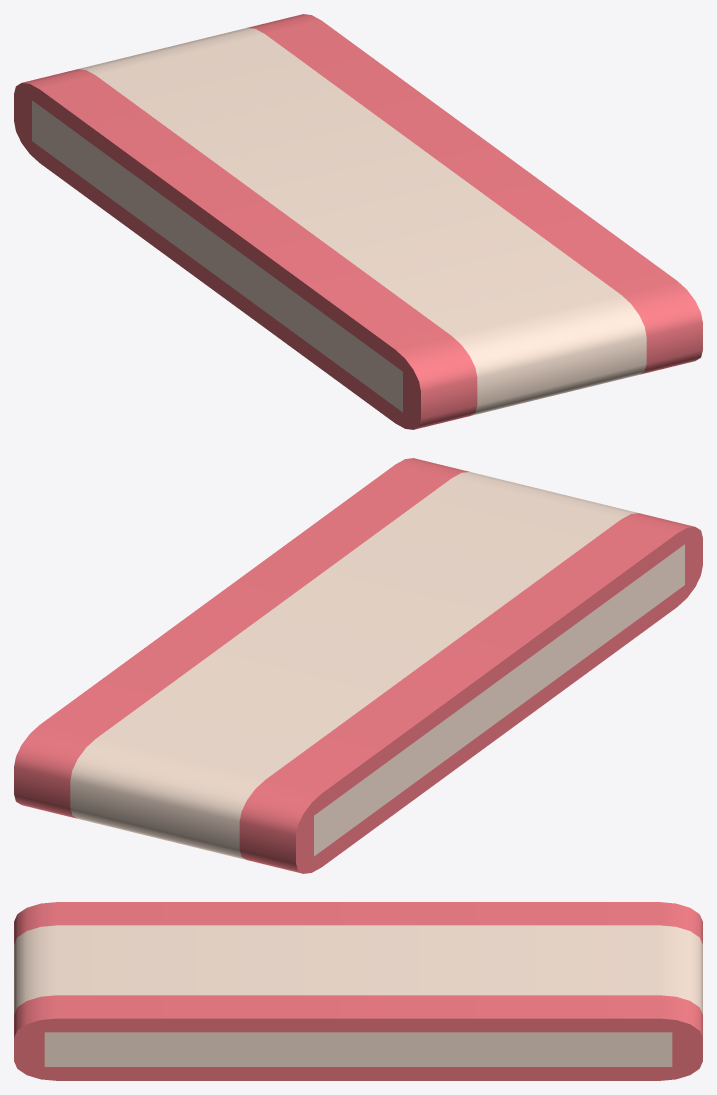
File: Props_Conveyor_Pink_02.fbx
3 views of the same model, one above another, from view 1: azimuth 30°, elevation 25°; view 2: azimuth 150°, elevation 25°; view 3: azimuth 270°, elevation 25° (orthographic). The views are drawn at different scales.
Visible parts, largest first — view 1: Props_Conveyor_Pink_02; view 2: Props_Conveyor_Pink_02; view 3: Props_Conveyor_Pink_02.
Boxes of the visible parts, bbox=[...] form: Props_Conveyor_Pink_02: bbox=[14, 14, 702, 429]; Props_Conveyor_Pink_02: bbox=[14, 458, 702, 873]; Props_Conveyor_Pink_02: bbox=[14, 902, 702, 1080].
Size of the model in its own units: 80 by 20 by 200.
